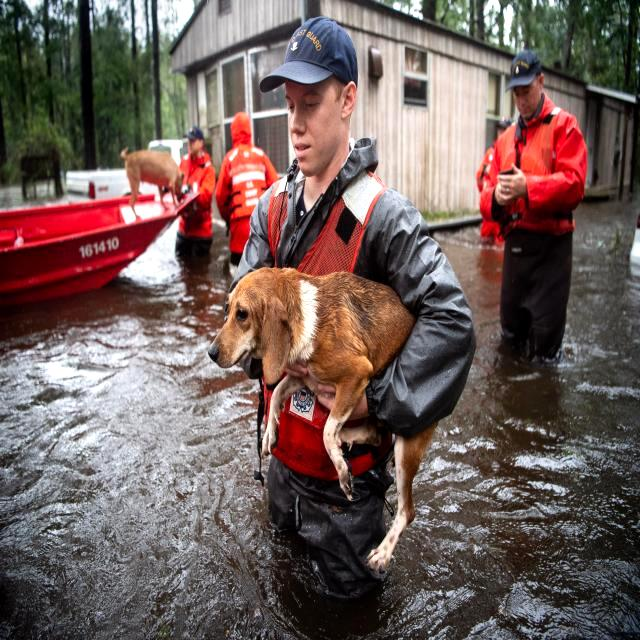dog: (189, 252, 462, 576), (110, 136, 199, 219)
rescuer: (221, 9, 480, 636), (470, 32, 595, 393), (217, 108, 281, 279), (158, 116, 219, 281)
